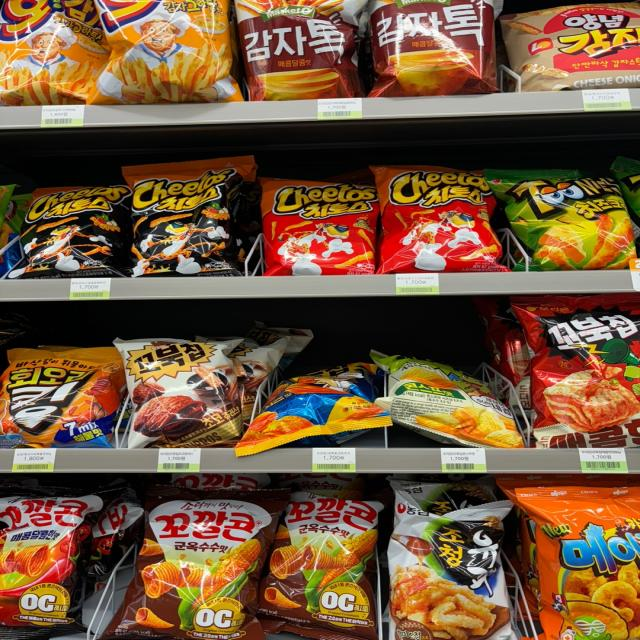product: (121, 494, 272, 632), (522, 301, 640, 451), (386, 498, 508, 635), (273, 490, 382, 625), (128, 159, 248, 273), (116, 340, 239, 443), (508, 168, 630, 271), (1, 349, 115, 455), (378, 168, 494, 272), (264, 176, 378, 274)
